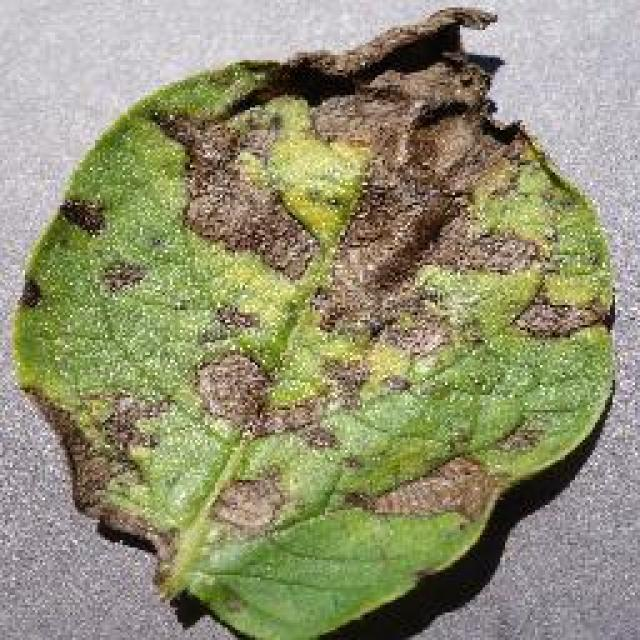early_blight: (8, 0, 620, 638)
